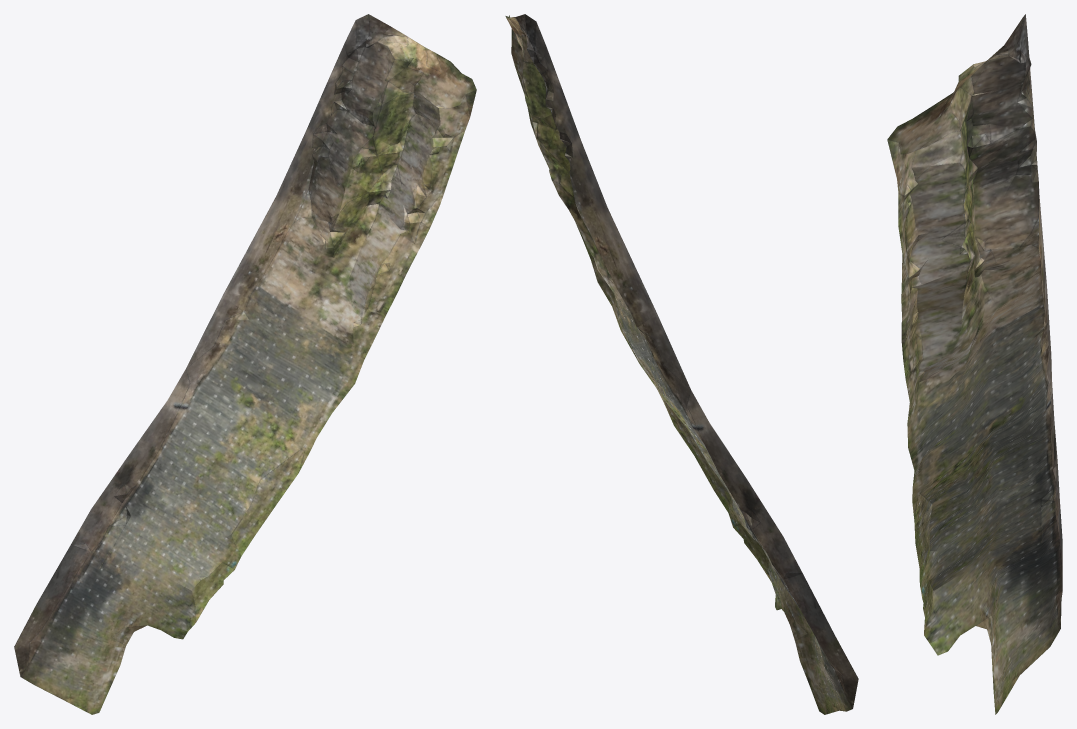
Rendered from superficie_t10.glb.
3 renders of one model, left to right at view 1: azimuth 30°, elevation 25°; view 2: azimuth 150°, elevation 25°; view 3: azimuth 270°, elevation 25°, orthographic. The views are drawn at different scales.
Parts seen in each view (by area): view 1: Bloco t_1_0_1; view 2: Bloco t_1_0_1; view 3: Bloco t_1_0_1.
Part boxes in pixels (left/top/right/bottom): Bloco t_1_0_1: left=14, top=14, right=476, bottom=714; Bloco t_1_0_1: left=505, top=14, right=858, bottom=714; Bloco t_1_0_1: left=887, top=14, right=1062, bottom=714.
Size of the model in its own units: 59.49 by 88.44 by 15.72.
1 material, 1 textured.
